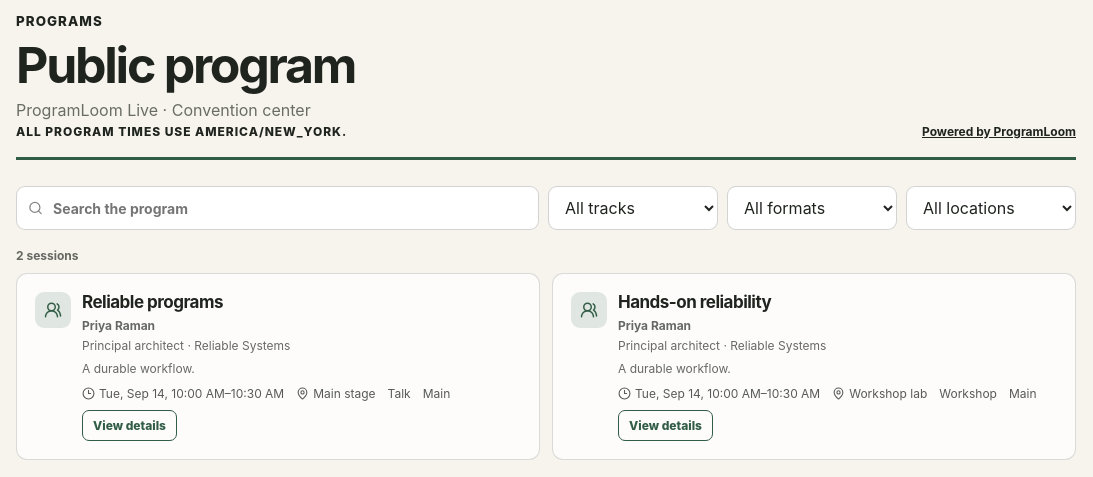
Scenario: public widgets › facets the session catalog by track, format, and location
Expected: the text "2 sessions" is shown, [16, 248, 78, 263]
Expected: the dropdown named "Filter by track" is shown, [548, 186, 718, 230]
Select "Workshop" in the dropdown named "Filter by format". click: (812, 208)
box: [727, 186, 897, 230]
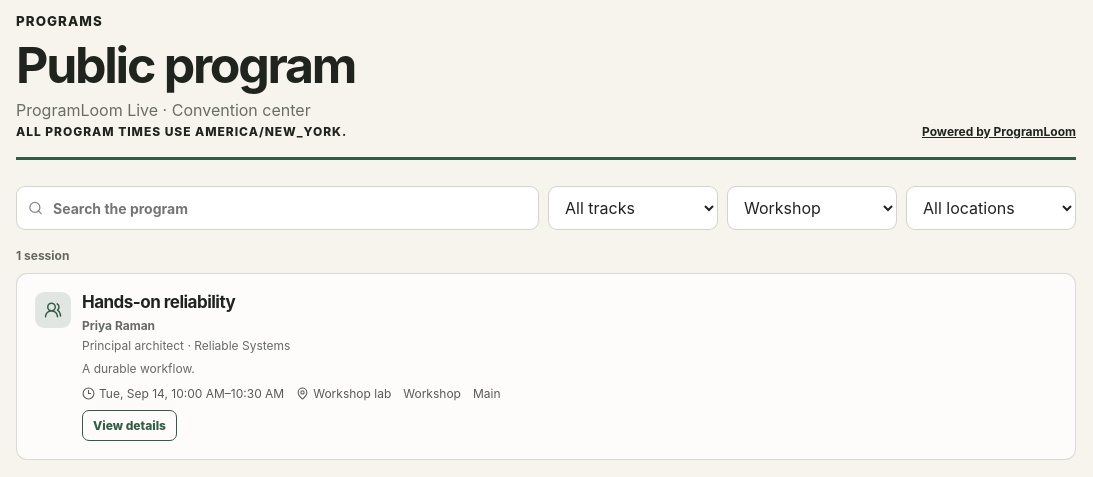
Expected: the heading "Hands-on reliability" is shown, [82, 292, 235, 312]
Now the text "1 session" is shown, box [16, 248, 69, 263]
Now the heading "Reliable programs" is gone
Select "All formats" in the dropdown named "Filter by format". click: (812, 208)
box: [727, 186, 897, 230]
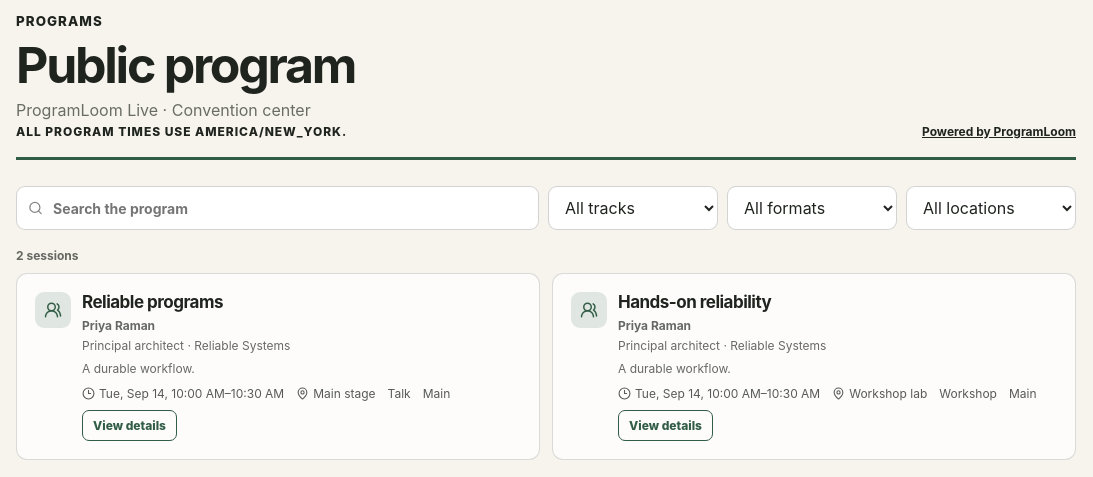
Select "Main stage" in the dropdown named "Filter by location". click: (991, 208)
box: [906, 186, 1076, 230]
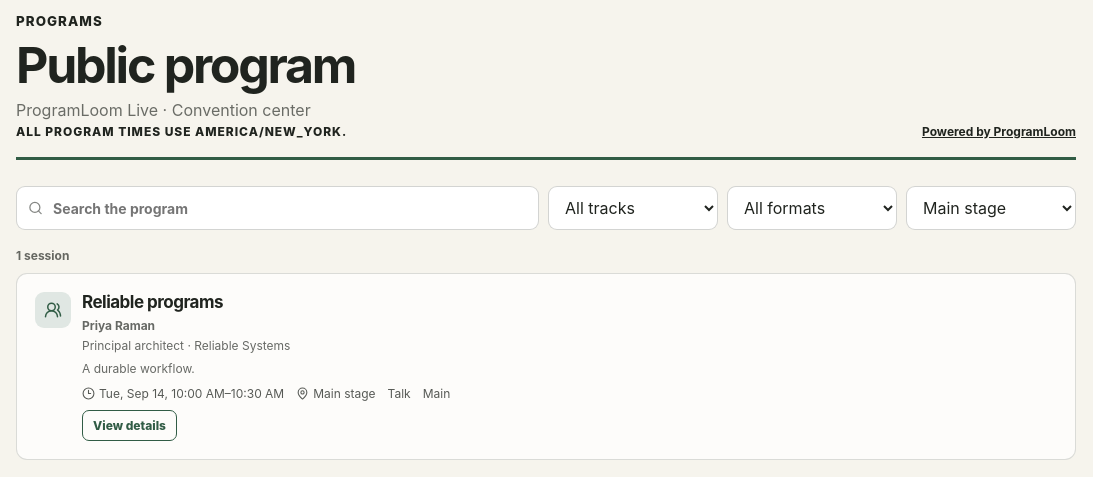
Now the heading "Reliable programs" is shown, box [82, 292, 223, 312]
Now the heading "Hands-on reliability" is gone
